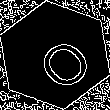O_NW: (20, 21, 90, 89)
